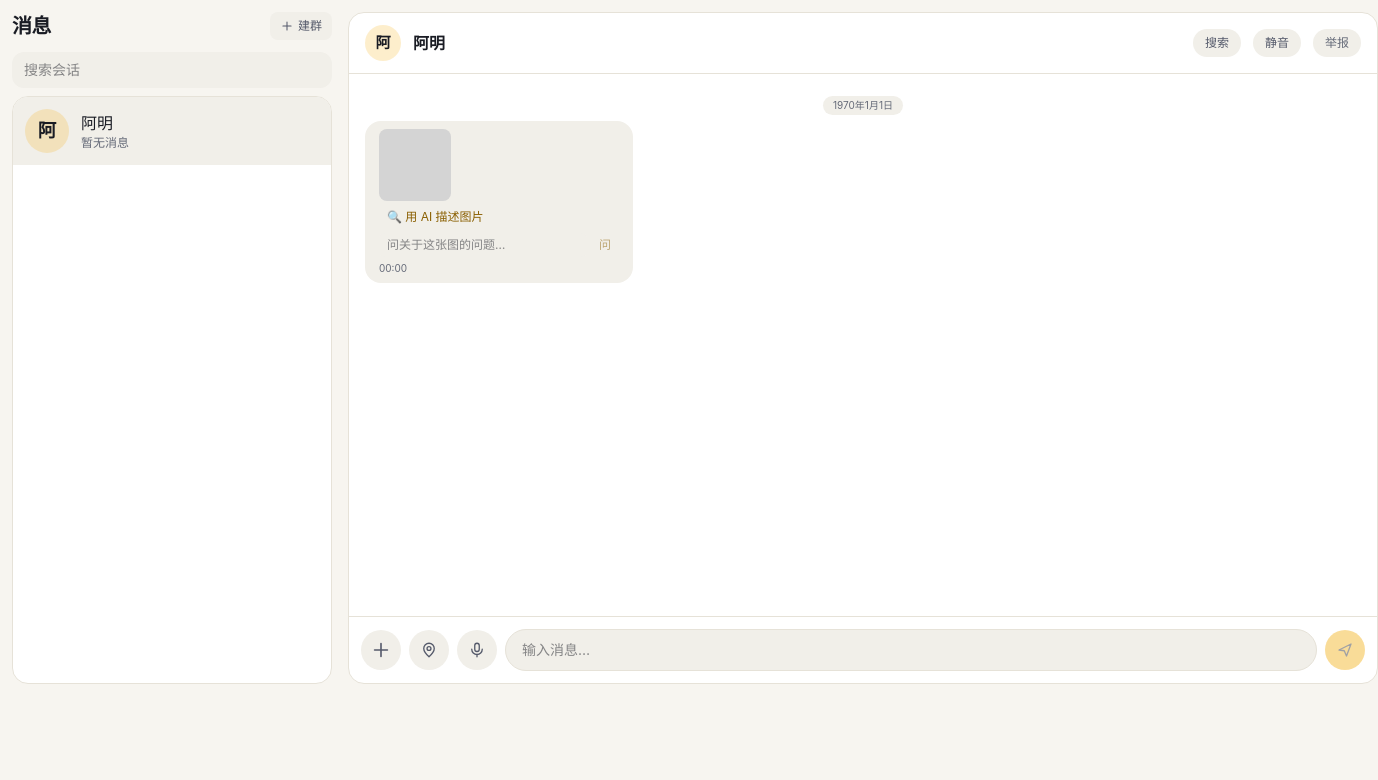
Test: ChatPage 线程消息气泡渲染（防字段漂移：按 kind 渲染内容） › 图片消息「用 AI 描述」→ 调 visionDescribe 并显示描述（低视力家人网页端也能听懂图片，与 iOS 对齐）
The width and height of the screenshot is (1378, 780).
What coordinates should you click on to do the following:
click the button "🔍 用 AI 描述图片"
I would click on:
 (435, 217)
Its box is [379,205,492,229].
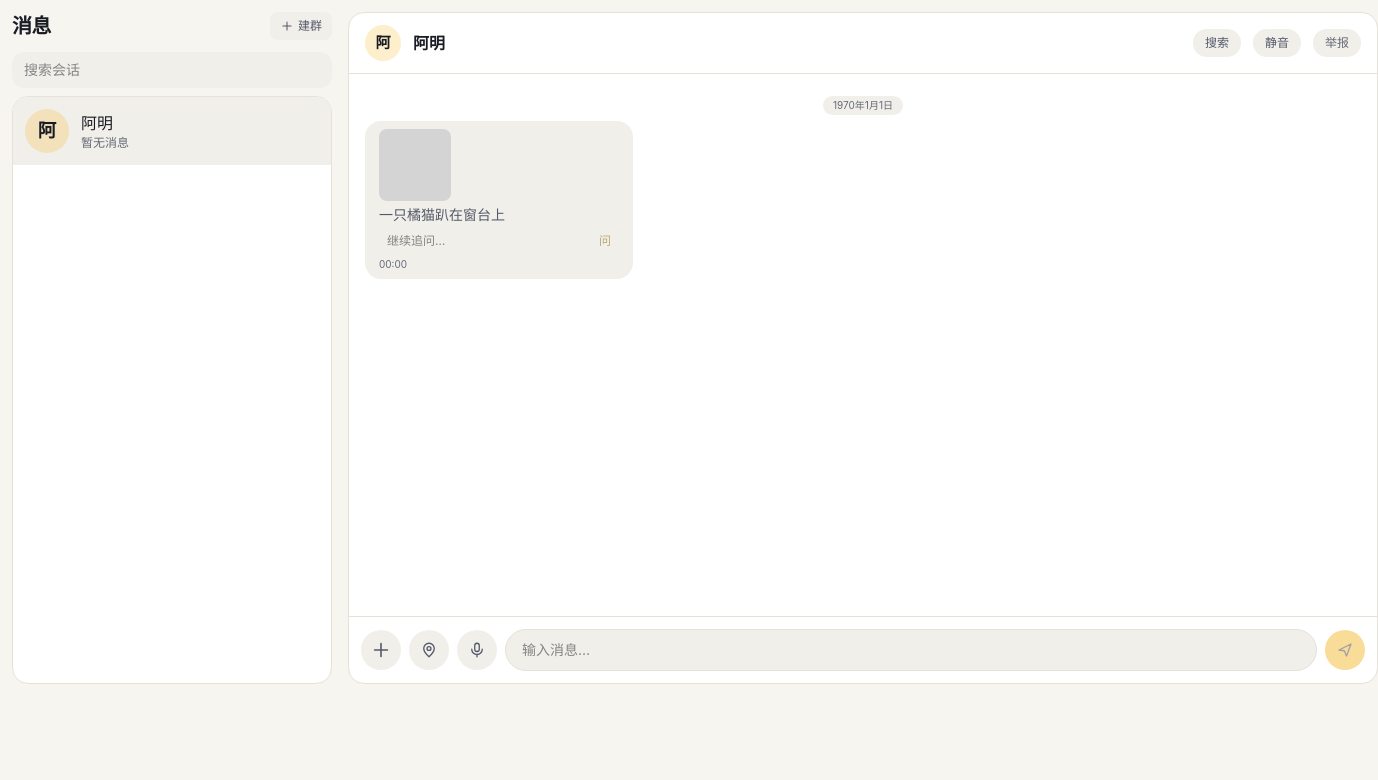
Now the text "一只橘猫趴在窗台上" is shown, box [379,206,505,223]
